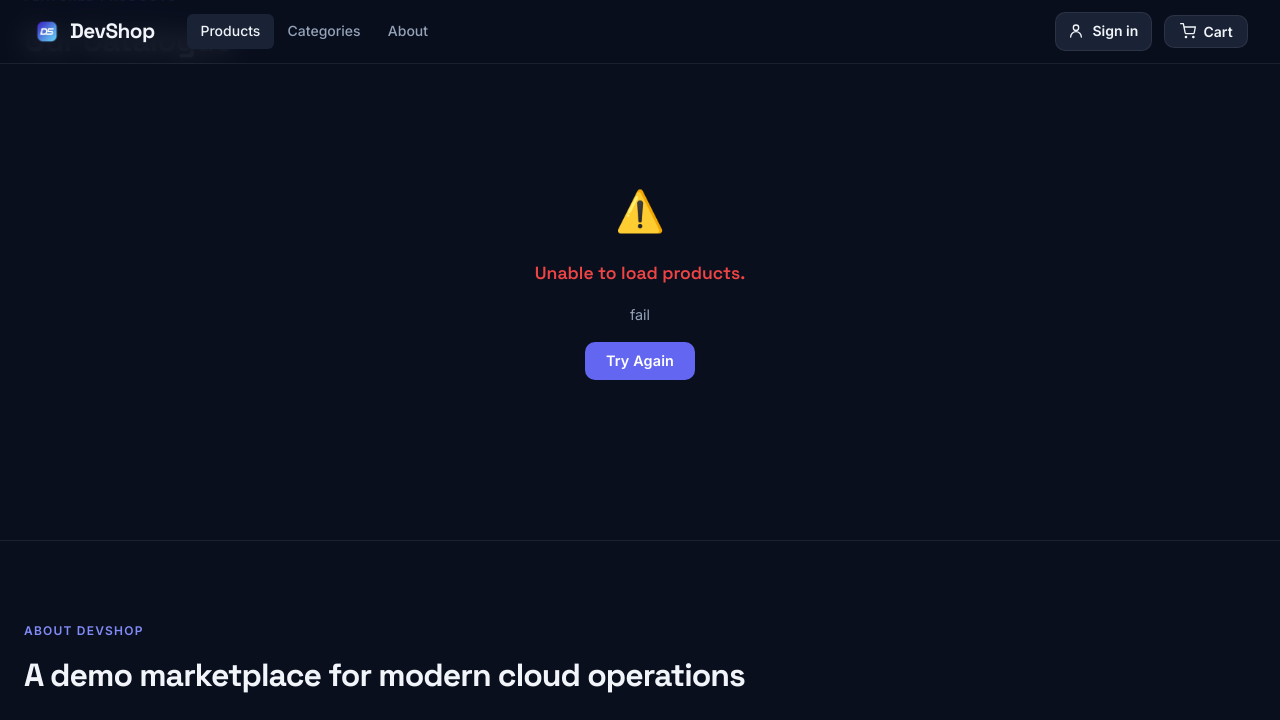
Scenario: Product listing › retries fetch when Try Again button is clicked
(page scrolled)
Expected: the message "⚠️ Unable to load products. fail Try Again" is shown, [535, 186, 745, 380]
Click the button "Try Again".
click(640, 361)  # box [585, 342, 695, 380]
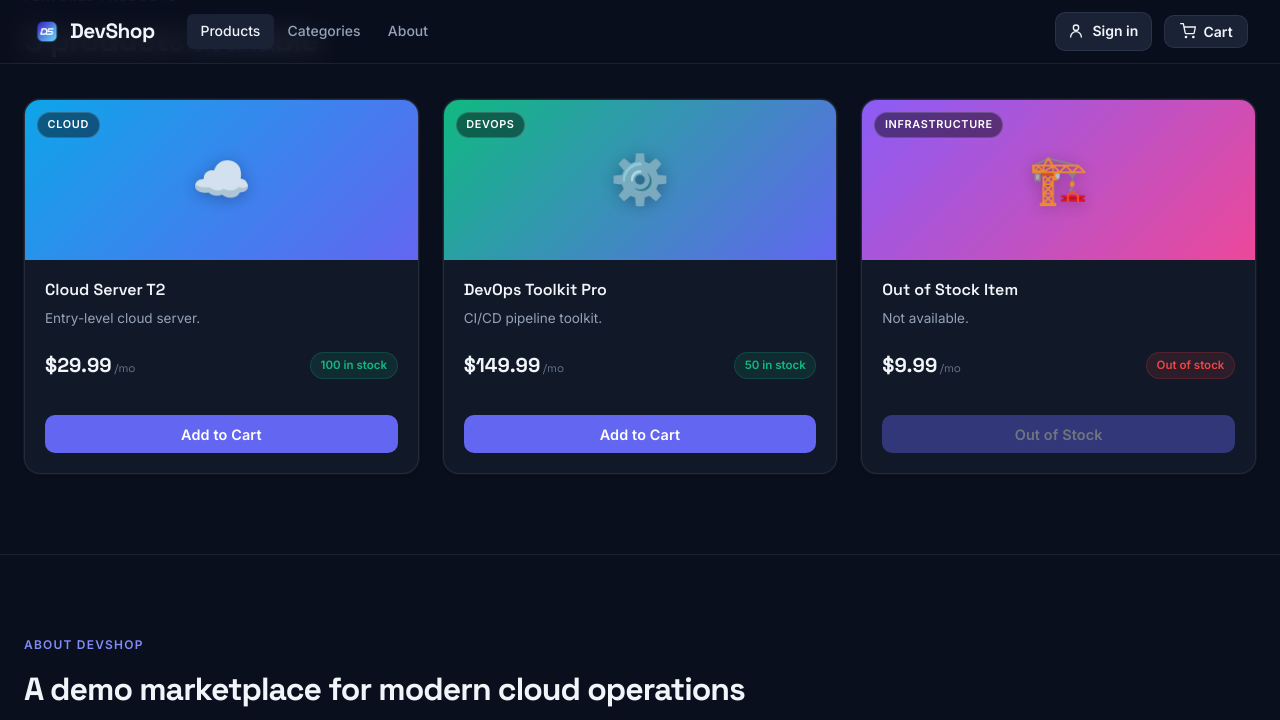
Result: the heading "Cloud Server T2" is shown at [45, 278, 165, 300]
